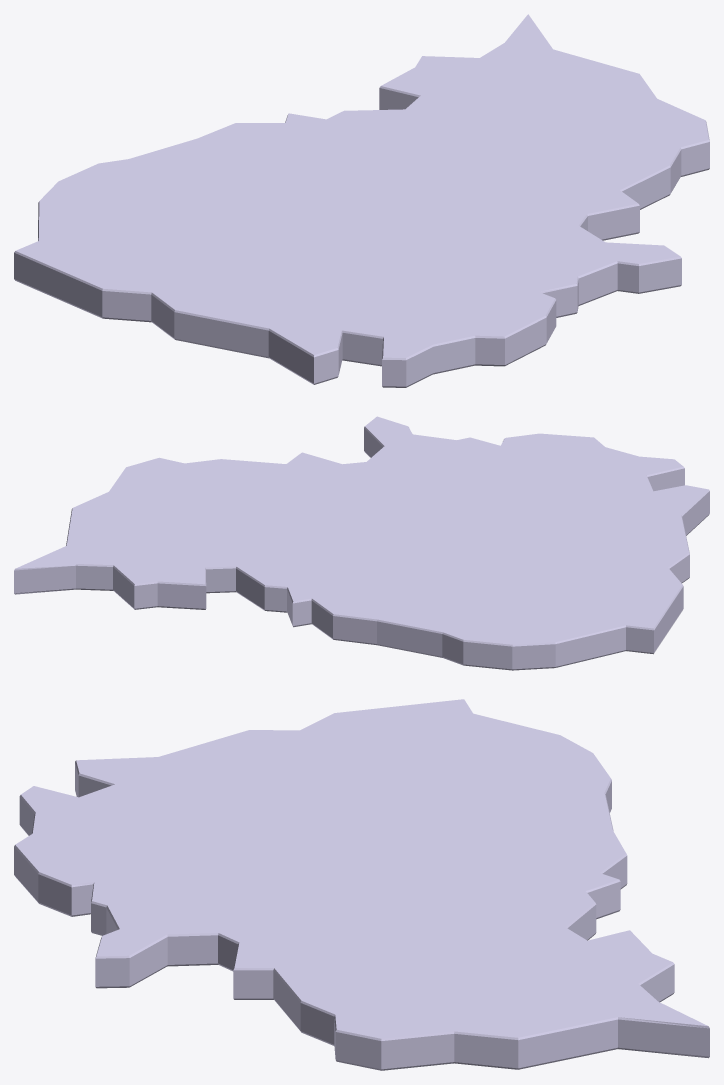
Rendered from KHM.glb.
3 views of the same model, one above another, from view 1: azimuth 30°, elevation 25°; view 2: azimuth 150°, elevation 25°; view 3: azimuth 270°, elevation 25° (orthographic). The views are drawn at different scales.
Size of the model in its own units: 1.55 by 0.068 by 1.34.
